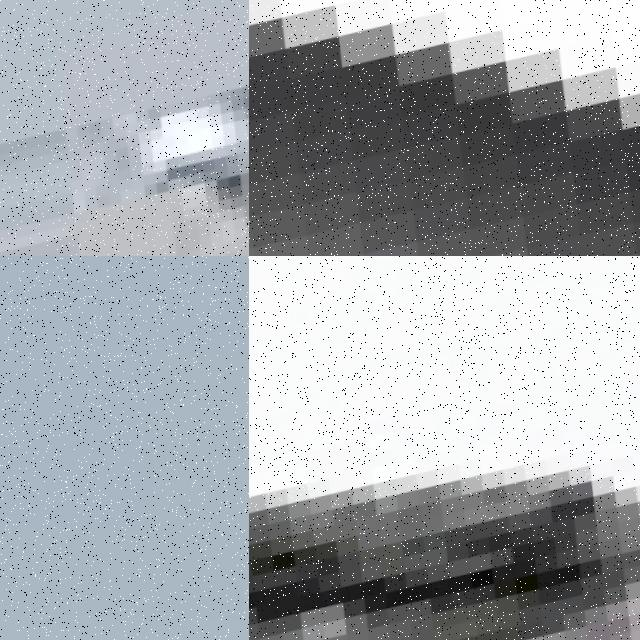drone: (249, 256, 640, 640), (249, 0, 640, 256), (0, 0, 249, 256)
